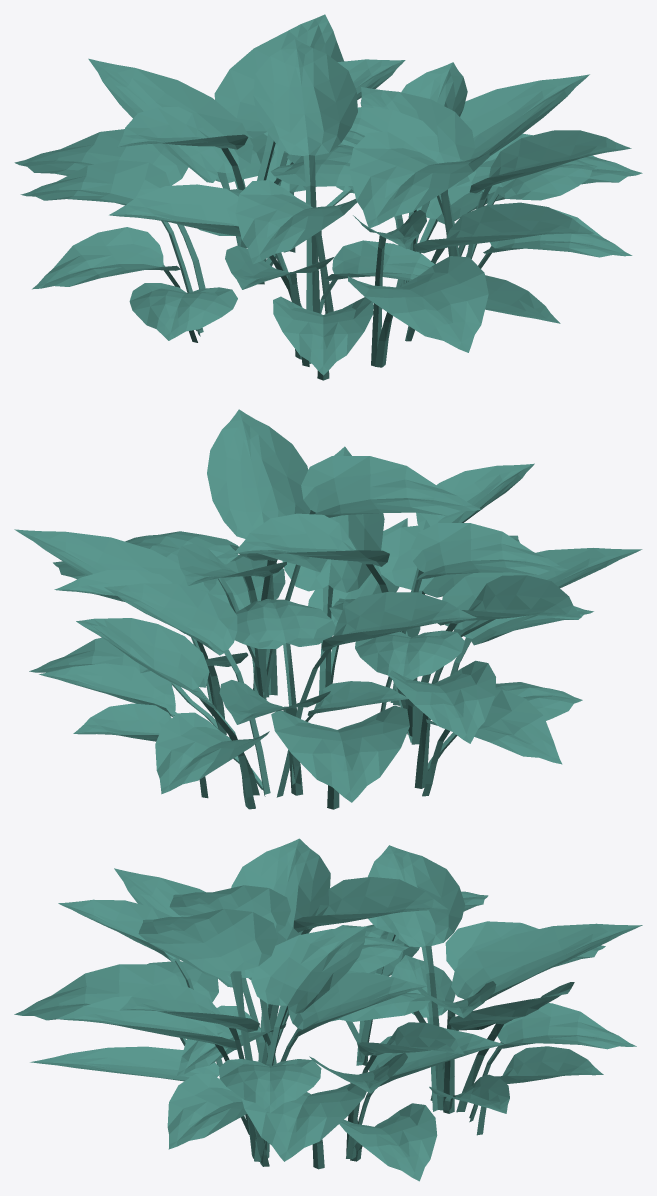
File: plante 4.fbx
The picture shows the model from 3 angles, top to bottom: view 1: azimuth 30°, elevation 25°; view 2: azimuth 150°, elevation 25°; view 3: azimuth 270°, elevation 25°; orthographic projection. The views are drawn at different scales.
Parts seen in each view (by area): view 1: plante_blade_2; view 2: plante_blade_2; view 3: plante_blade_2.
Part boxes in pixels (x1=…): plante_blade_2: x1=14, y1=14, x2=642, y2=380; plante_blade_2: x1=14, y1=409, x2=642, y2=809; plante_blade_2: x1=14, y1=838, x2=642, y2=1181.
Size of the model in its own units: 526 by 213 by 538.
